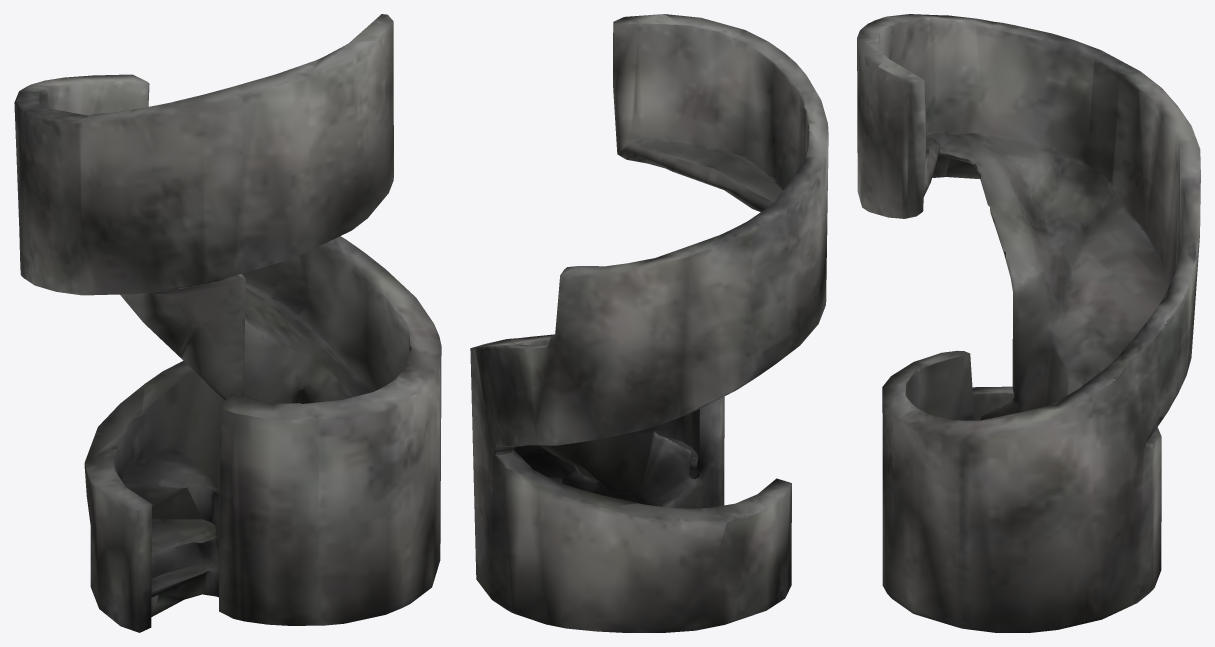
Rendered from plain-granite-spiral-staircase-v001.glb.
3 views of the same model, side by side, from view 1: azimuth 30°, elevation 25°; view 2: azimuth 150°, elevation 25°; view 3: azimuth 270°, elevation 25° (orthographic). The views are drawn at different scales.
Parts seen in each view (by area): view 1: plain-granite-spiral-staircase; view 2: plain-granite-spiral-staircase; view 3: plain-granite-spiral-staircase.
Part boxes in pixels (left/top/right/bottom): plain-granite-spiral-staircase: left=14, top=14, right=441, bottom=632; plain-granite-spiral-staircase: left=470, top=14, right=828, bottom=632; plain-granite-spiral-staircase: left=857, top=14, right=1200, bottom=632.
Size of the model in its own units: 1.74 by 2.59 by 1.56.
1 material, 1 textured.
